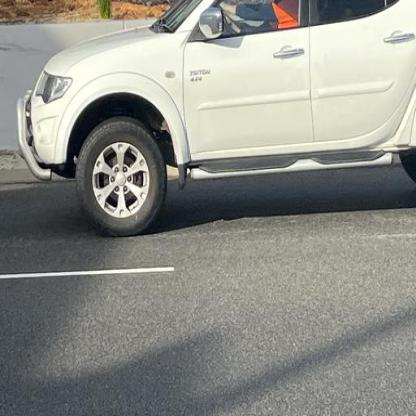Tire: (75, 116, 168, 239)
